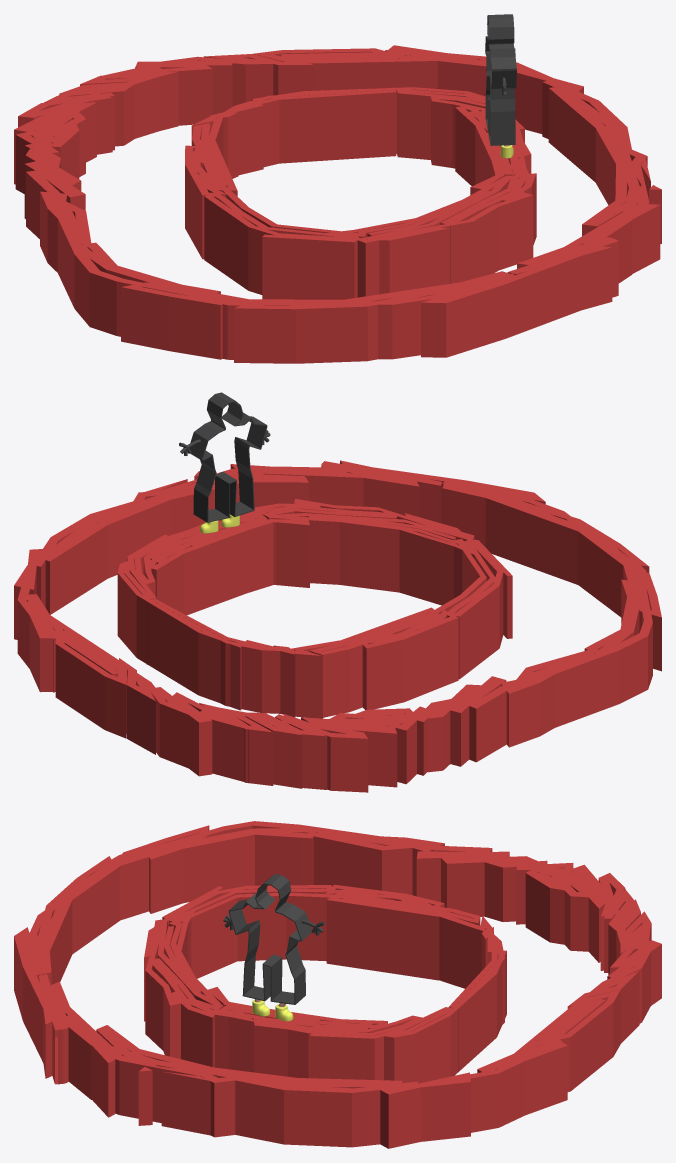
The picture shows the model from 3 angles, top to bottom: view 1: azimuth 30°, elevation 25°; view 2: azimuth 150°, elevation 25°; view 3: azimuth 270°, elevation 25°; orthographic projection.
Parts seen in each view (by area): view 1: 15; view 2: 15; view 3: 15.
Boxes of the visible parts, left/top/right/bottom form: 15: left=14, top=14, right=661, bottom=363; 15: left=14, top=392, right=661, bottom=792; 15: left=14, top=821, right=661, bottom=1148.
Bounding box in the file's own units: 4.22 × 1.45 × 4.22.
